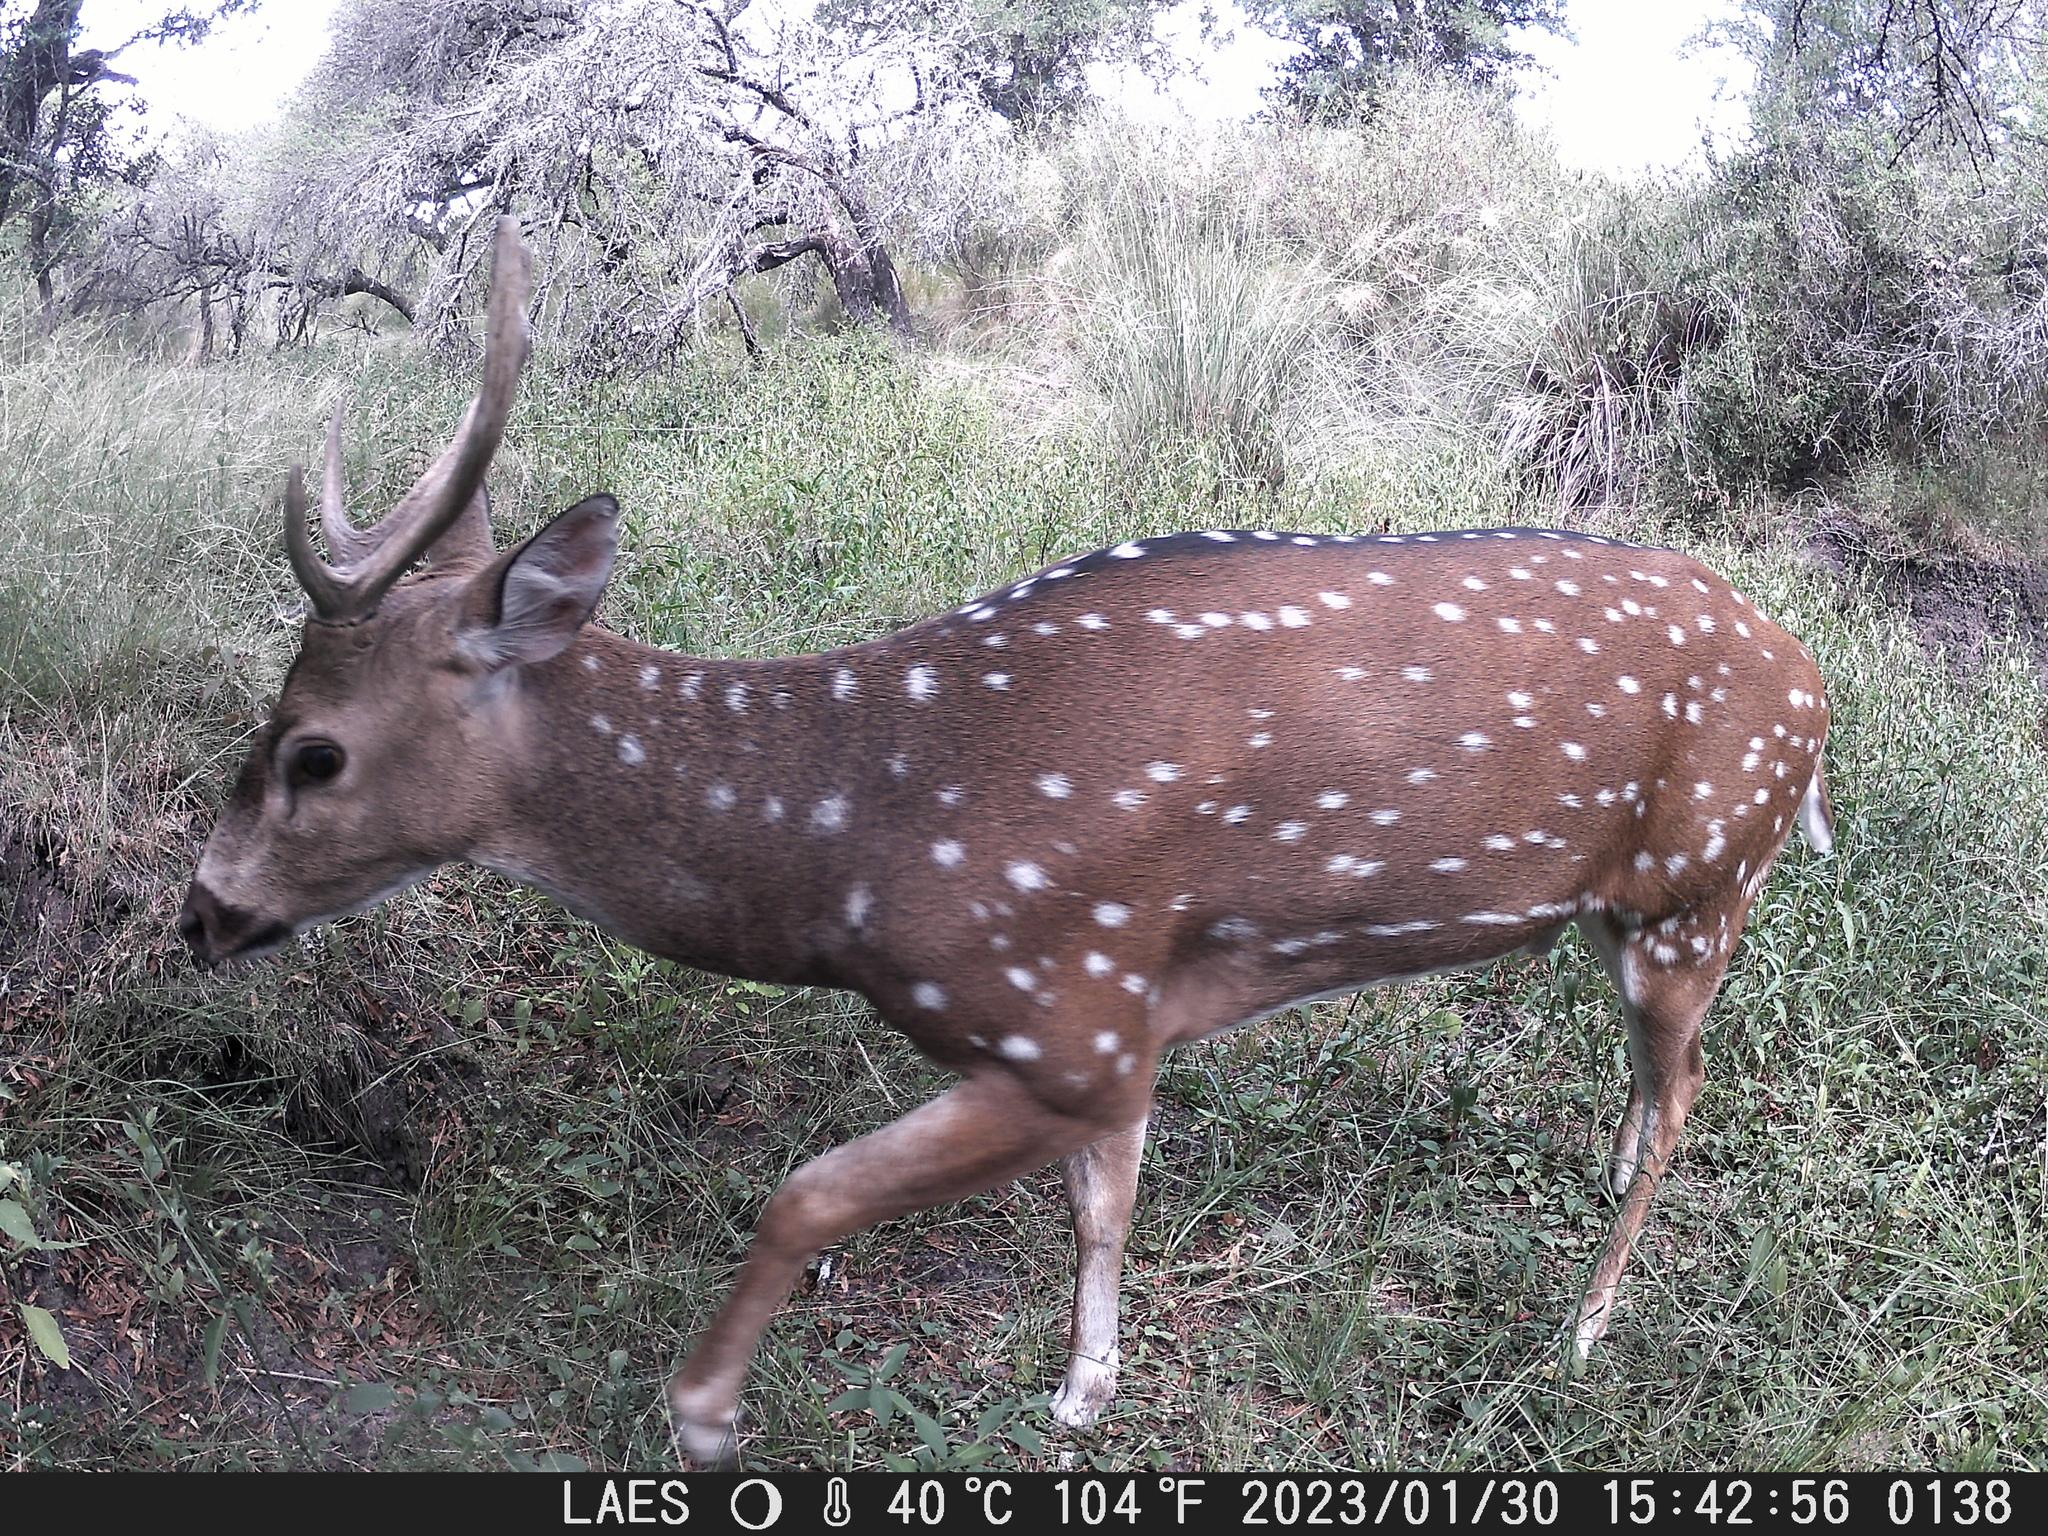Deer: (179, 216, 1830, 1468)
